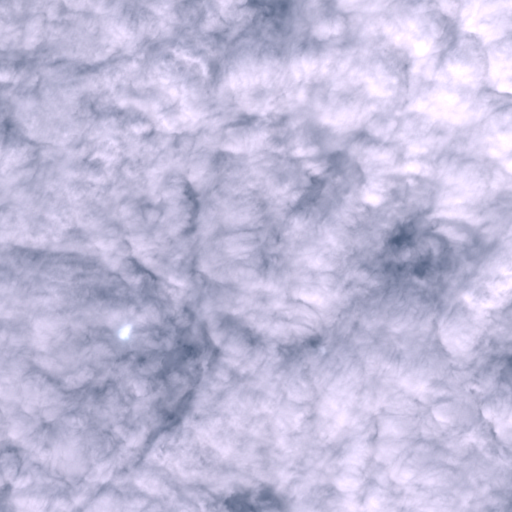Iceberg: (119, 325, 130, 338)
